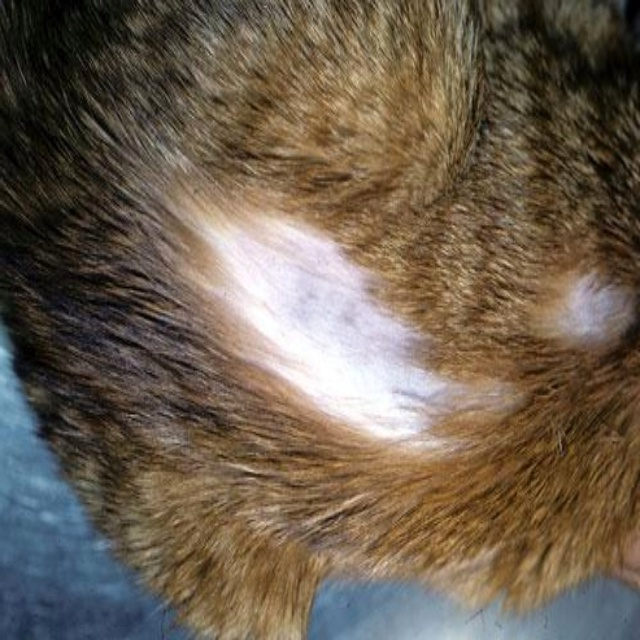hairloss: (205, 201, 470, 446), (572, 285, 629, 343)
